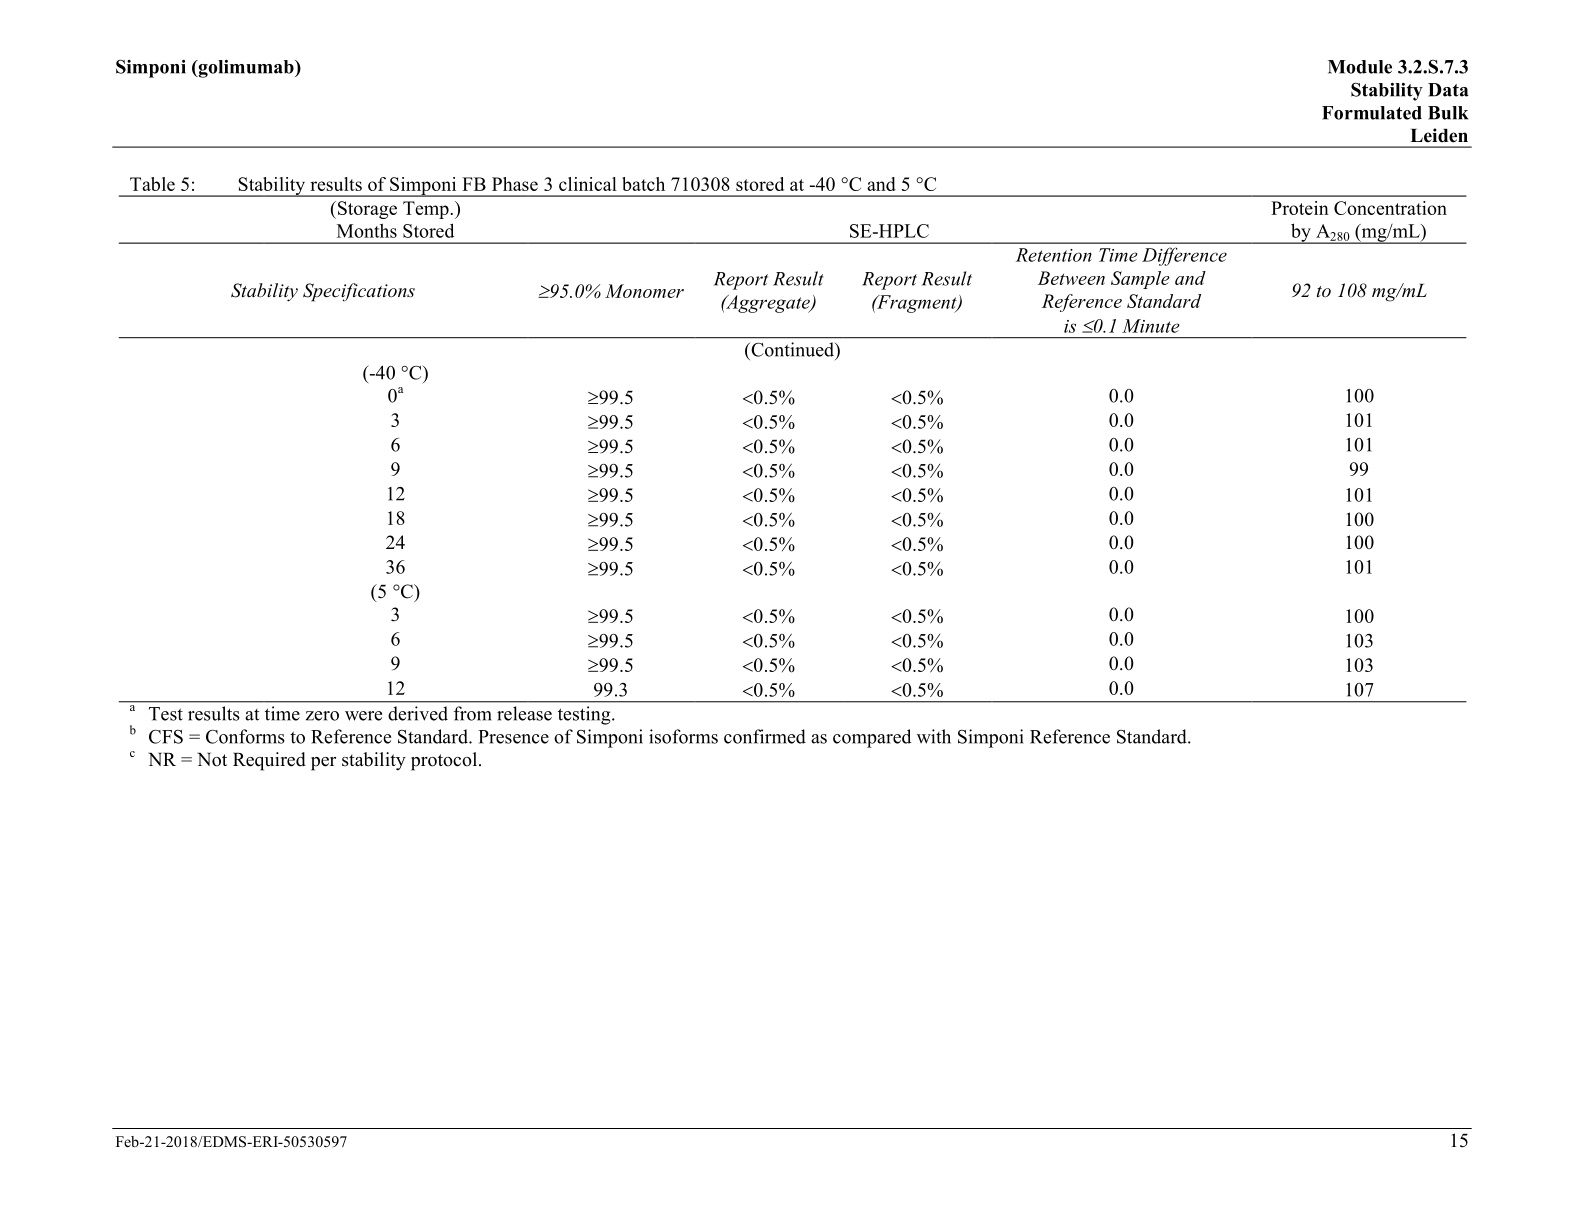partial_lined_merged_cells: (118, 194, 1470, 705)
